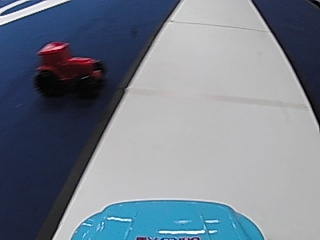tractor: (32, 38, 107, 99)
